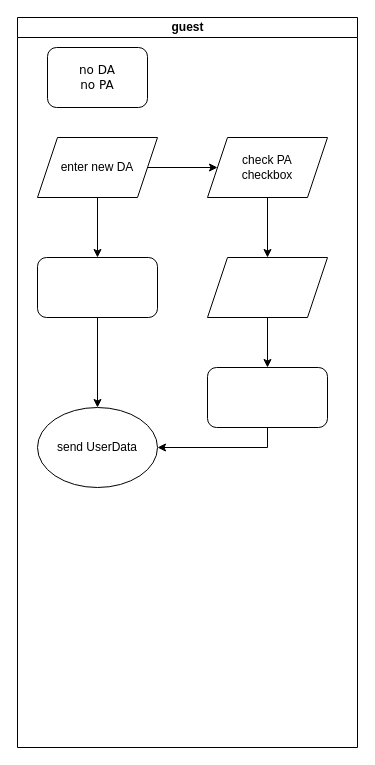
Image size: 375x765. Some labels were removed from this diagram. The centre of each missing label's shape, as x and y in pixels:
DA: { DATA } PA: { DATA }: pixel 267 397
DA: {DATA} backend will set PA to be DA: pixel 97 287
enter new PA: pixel 267 287
